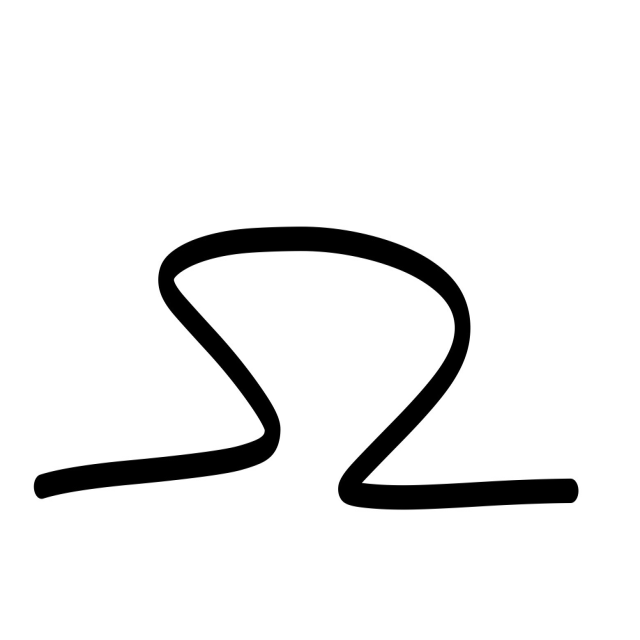ohms: (18, 112, 609, 601)
